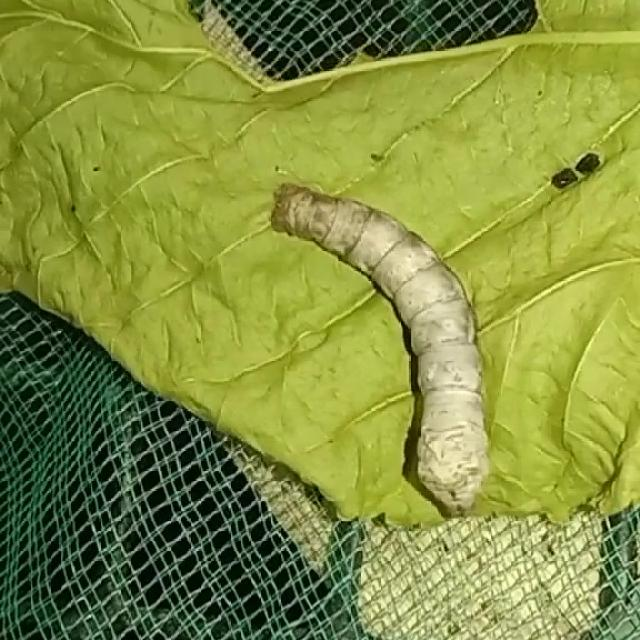Grasserie: (221, 135, 630, 587)
